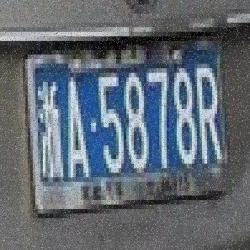LicensePlate: (25, 35, 232, 216)
